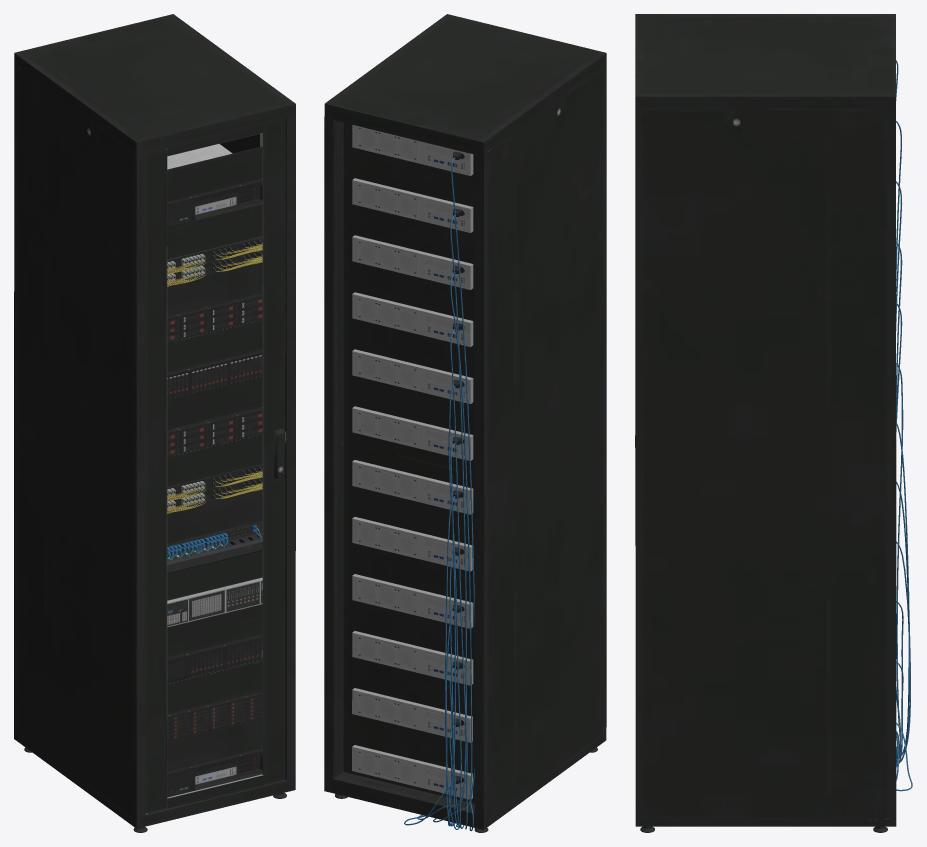
File: data_center_server_rack.glb
3 views of the same model, side by side, from view 1: azimuth 30°, elevation 25°; view 2: azimuth 150°, elevation 25°; view 3: azimuth 270°, elevation 25° (orthographic). The views are drawn at different scales.
Visible parts, largest first — view 1: SM_Server_Case_001_StingrayPBS4_0, SM_Servers_1_001_StingrayPBS3_0, SM_Back_001_StingrayPBS2_0; view 2: SM_Server_Case_001_StingrayPBS4_0, SM_Back_001_StingrayPBS2_0; view 3: SM_Server_Case_001_StingrayPBS4_0, SM_Back_001_StingrayPBS2_0.
Part boxes in pixels (left/top/right/bottom): SM_Server_Case_001_StingrayPBS4_0: left=14, top=14, right=295, bottom=832; SM_Servers_1_001_StingrayPBS3_0: left=167, top=144, right=262, bottom=797; SM_Back_001_StingrayPBS2_0: left=167, top=236, right=263, bottom=627; SM_Server_Case_001_StingrayPBS4_0: left=324, top=14, right=606, bottom=832; SM_Back_001_StingrayPBS2_0: left=352, top=125, right=474, bottom=831; SM_Server_Case_001_StingrayPBS4_0: left=635, top=14, right=896, bottom=832; SM_Back_001_StingrayPBS2_0: left=896, top=60, right=912, bottom=791.
Size of what is drawn, in the model's own units: 0.6 by 2.5 by 0.8521.
3 materials, 3 textured.
